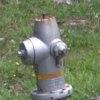Hydrant: (15, 7, 77, 96)
